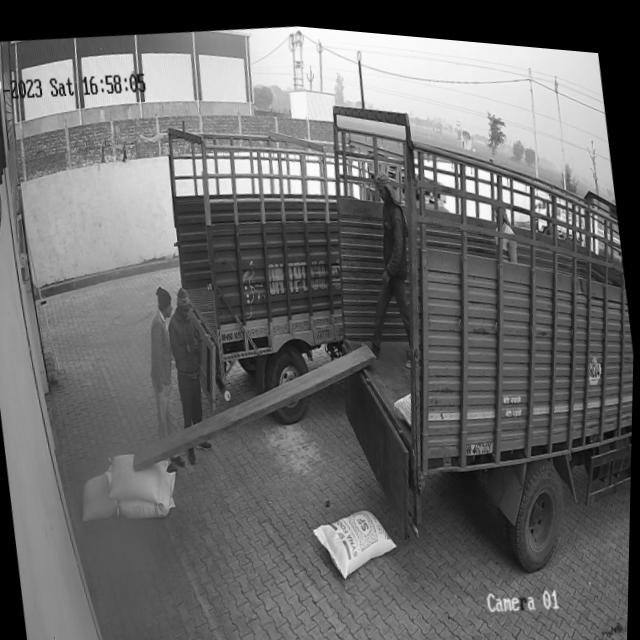sack: (313, 495, 404, 579), (106, 443, 176, 509), (114, 462, 184, 521), (78, 465, 123, 523)
